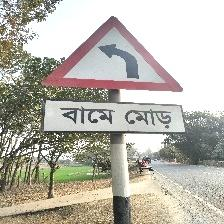Left-Turn: (40, 16, 186, 134)
